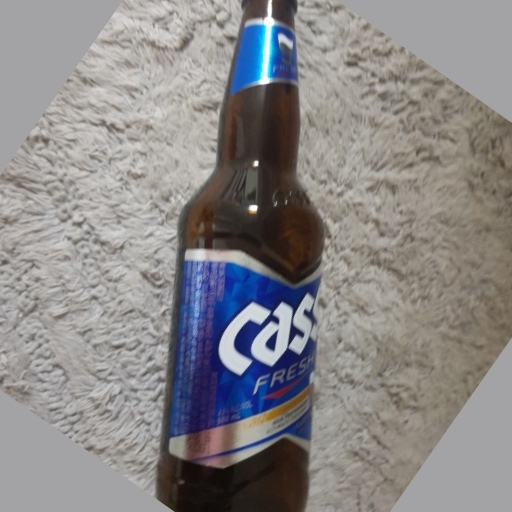Glass_1: (160, 1, 326, 512)
